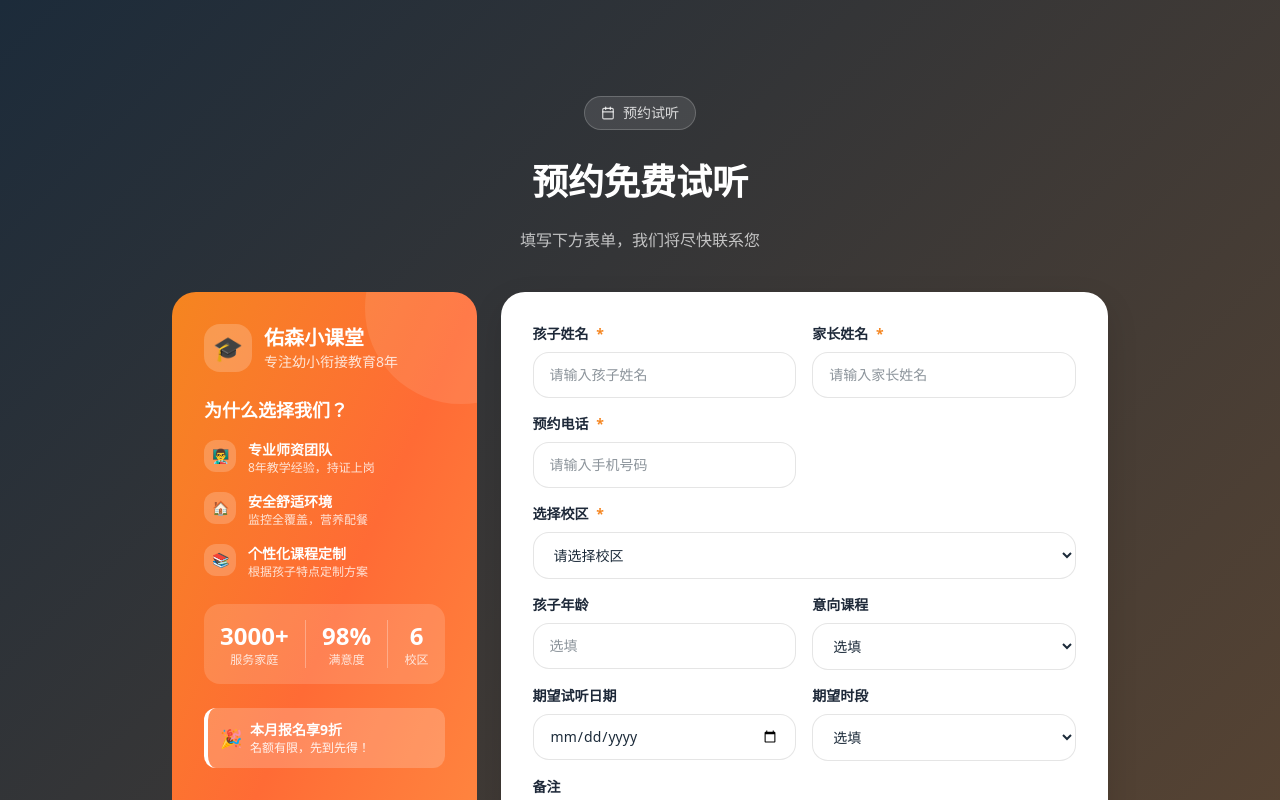
Test: ContactForm 组件 › 手机号格式错误时显示错误
Type "小明" into the field labelled "孩子姓名 *" at (664, 375), box [533,352,796,398]
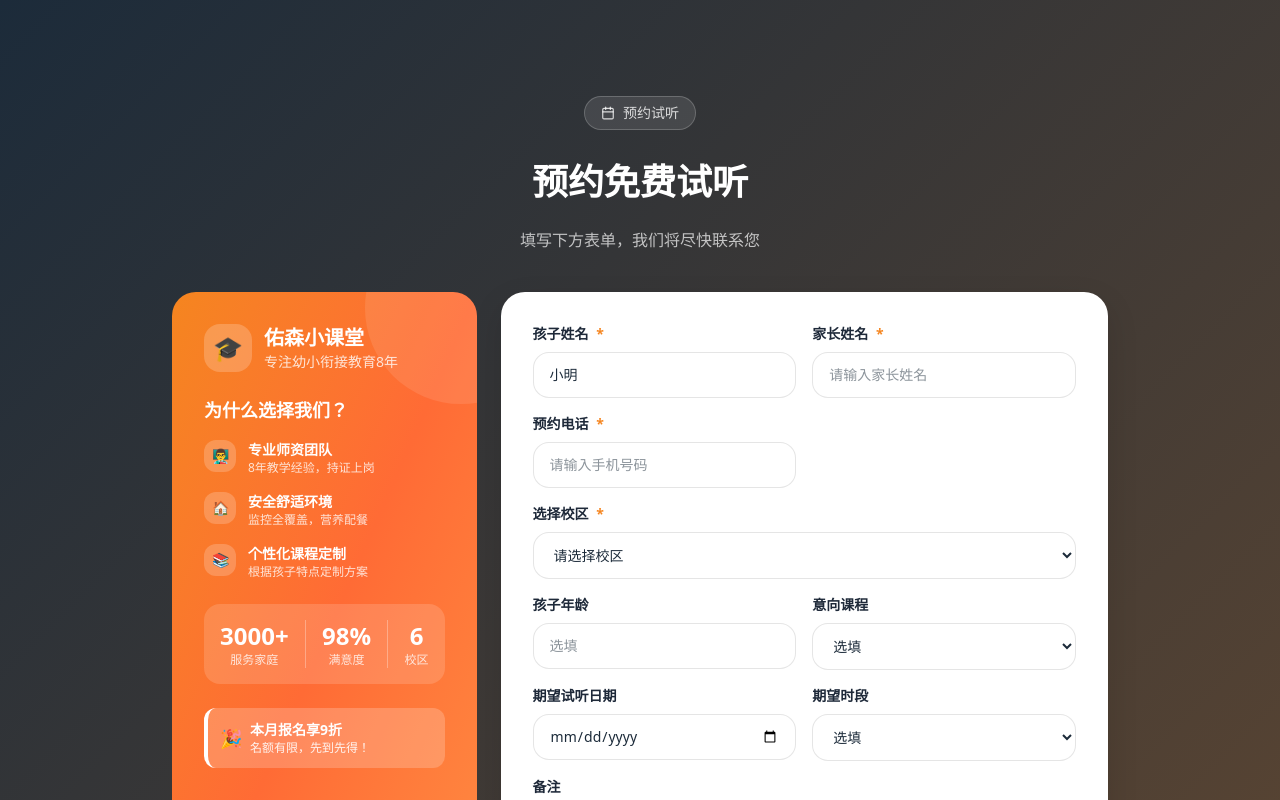
Type "张先生" into the field labelled "家长姓名 *" at (944, 375), box [812,352,1076,398]
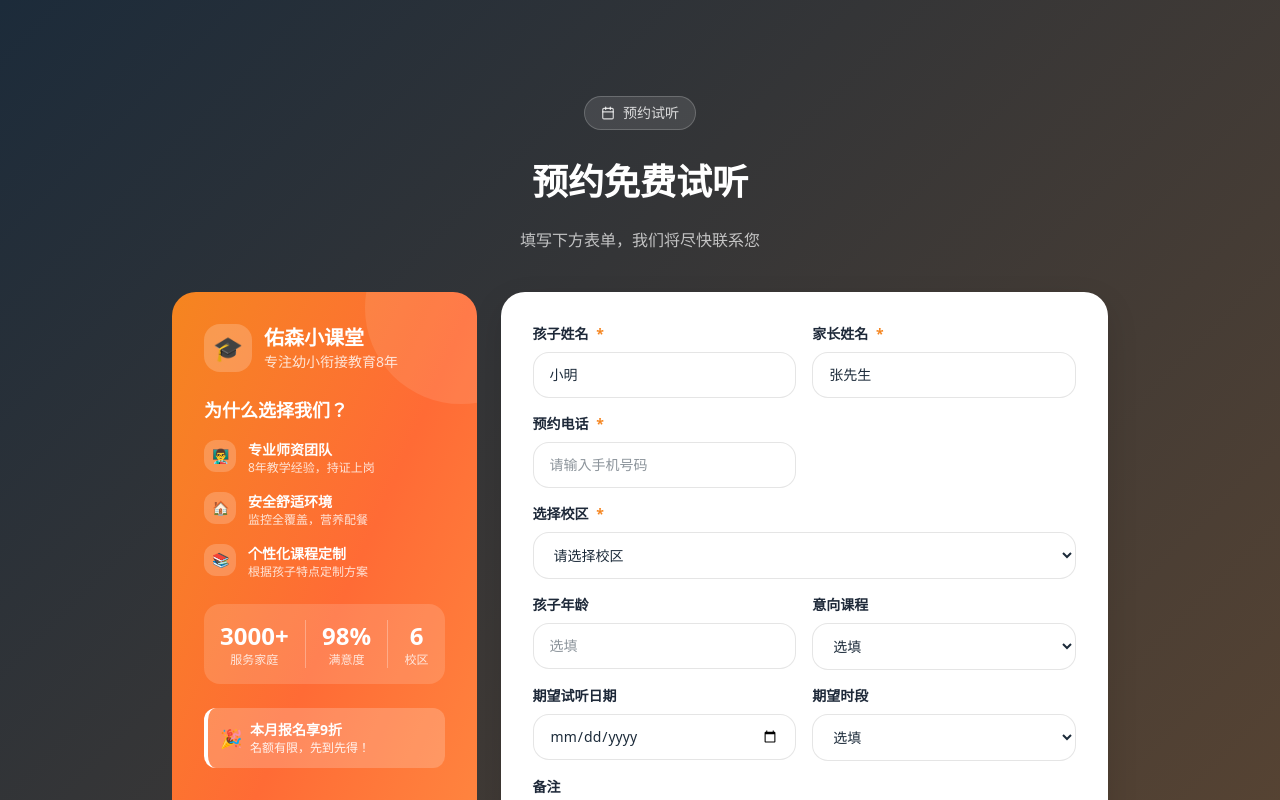
Type "123" into the field labelled "预约电话 *" at (664, 465), box [533,442,796,488]
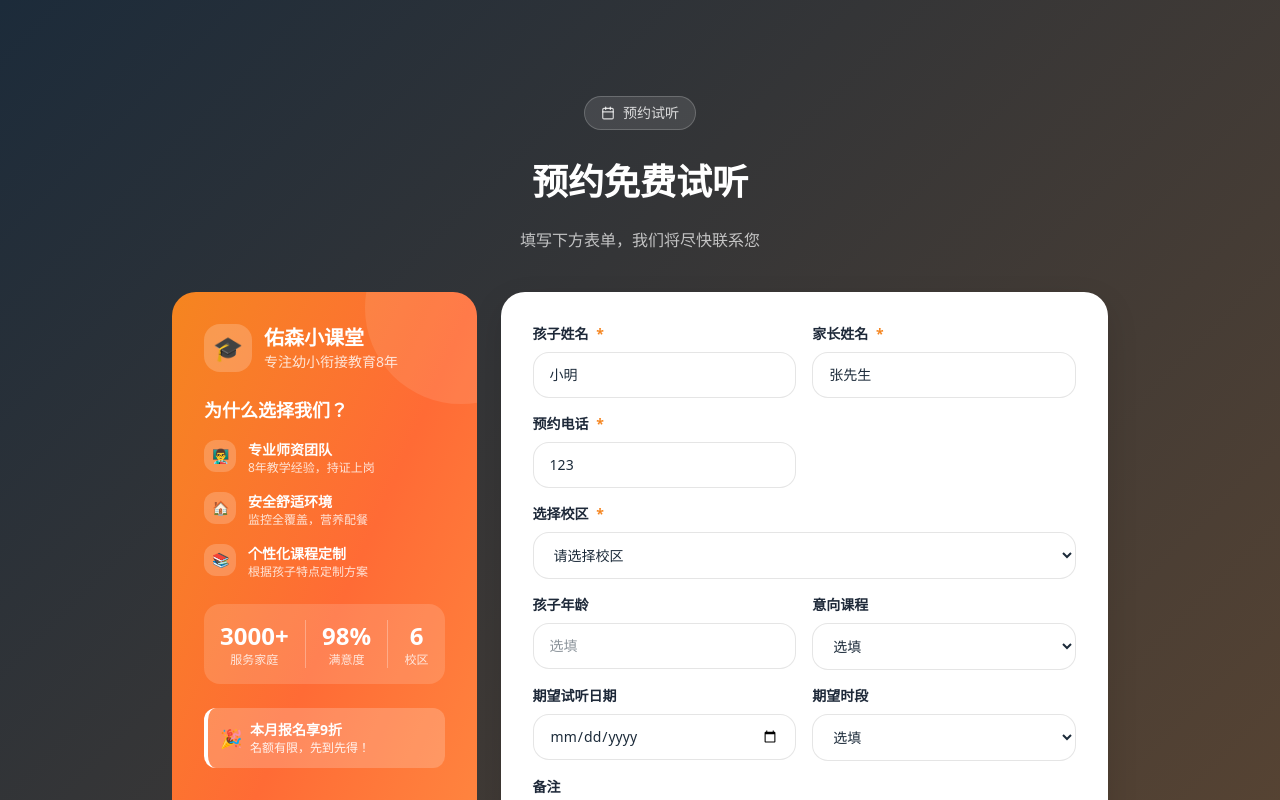
Select "百步亭校区" in the dropdown labelled "选择校区 *" at (804, 555), box [533,532,1076,579]
(page scrolled)
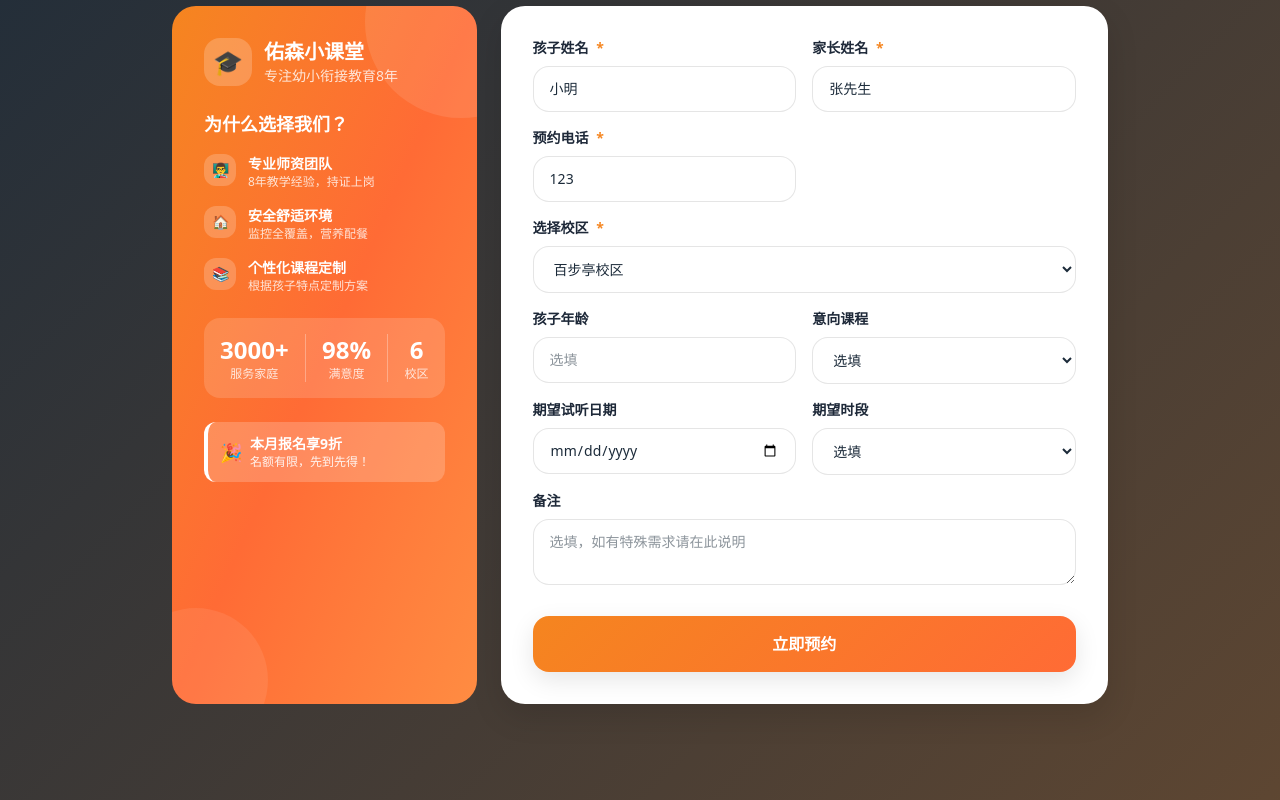
Click the button "立即预约" at (804, 644), box [533,616,1076,672]
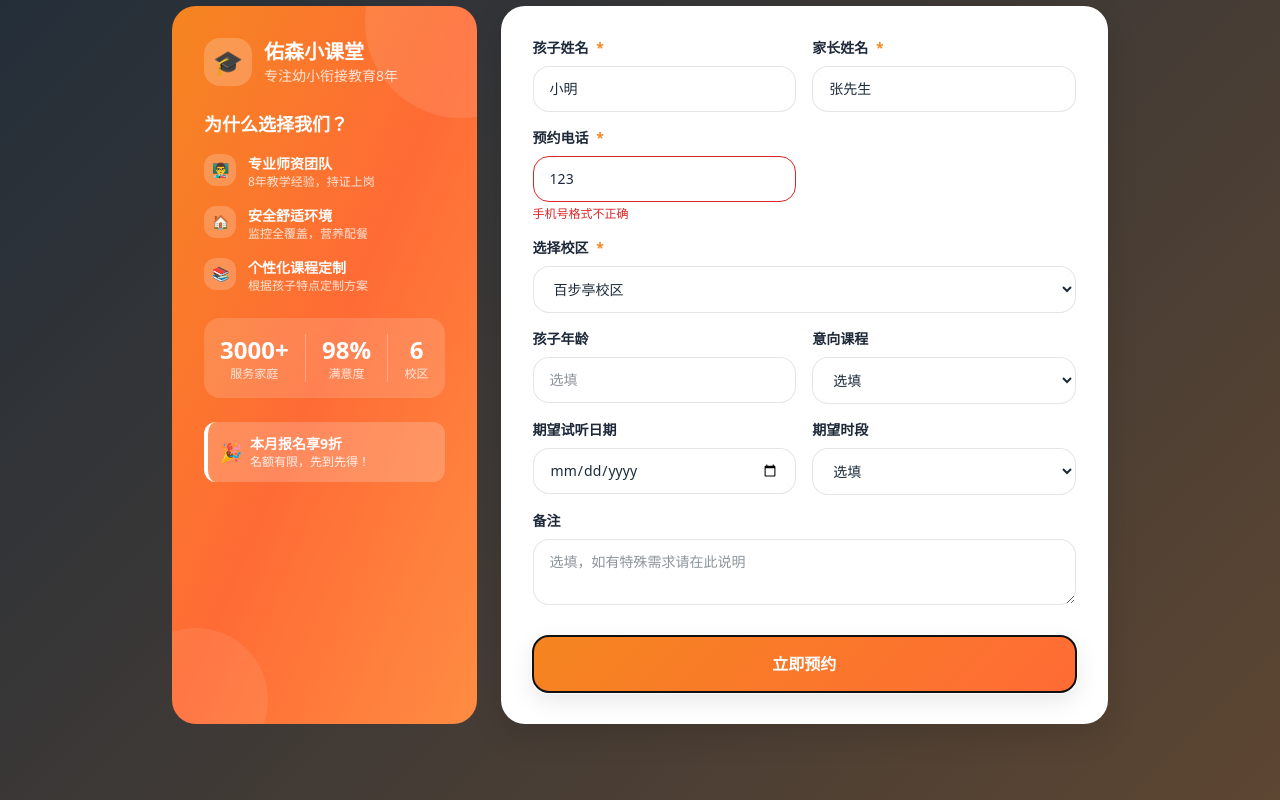
expect the text "手机号格式不正确" is shown: met, box [533,205,629,222]
